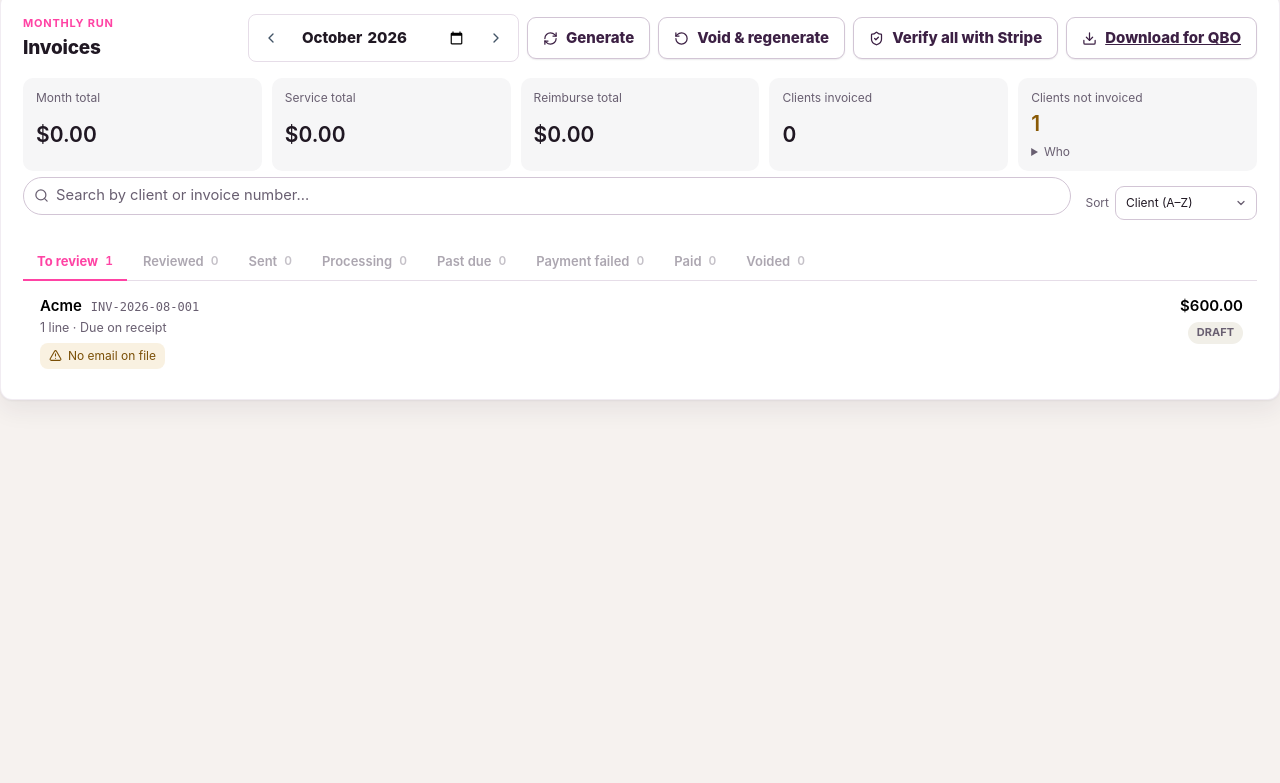
Test case: InvoiceMonthRun — the retainer credit › offers the credit, named with what it is worth
The width and height of the screenshot is (1280, 783).
Click the text "INV-2026-08-001" at [145, 308], box top-left (91, 299), bottom-right (199, 317)
(page scrolled)
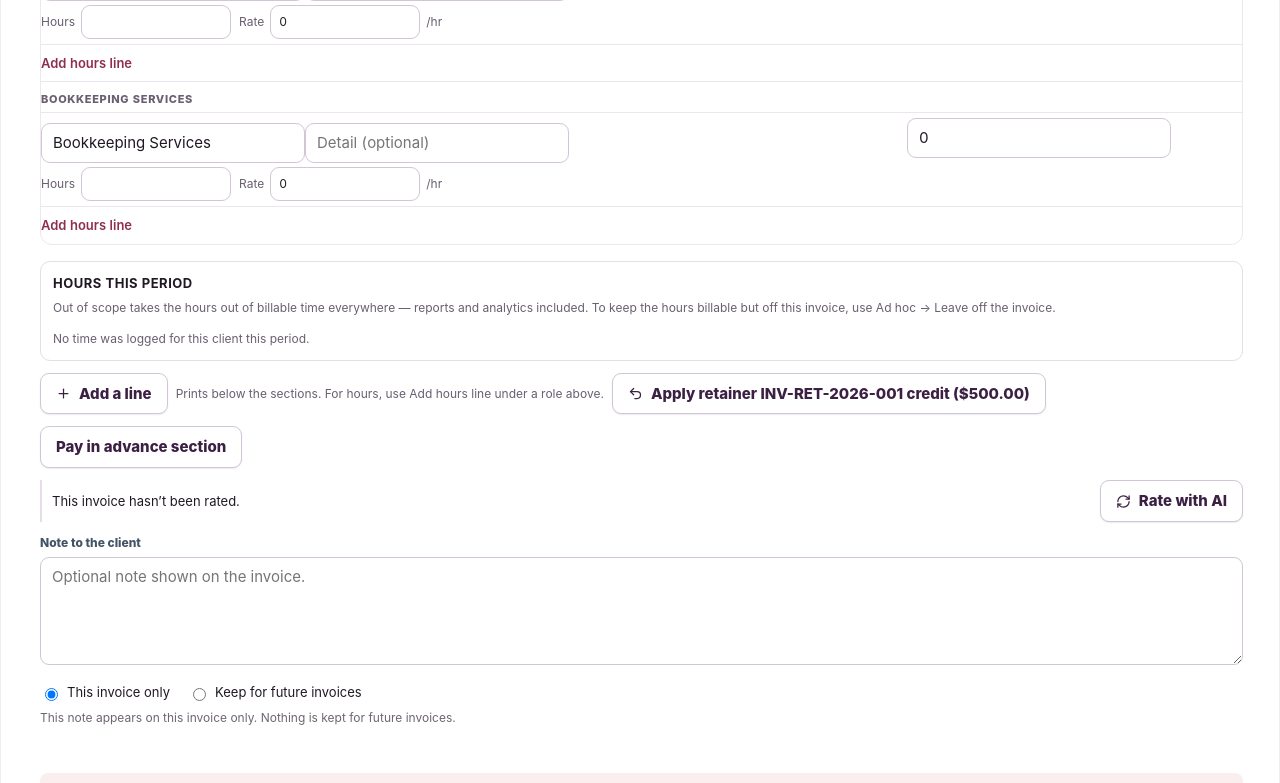
Expected: the button "Apply retainer INV-RET-2026-001 credit ($500.00)" is shown, top-left (612, 373), bottom-right (1046, 414)
